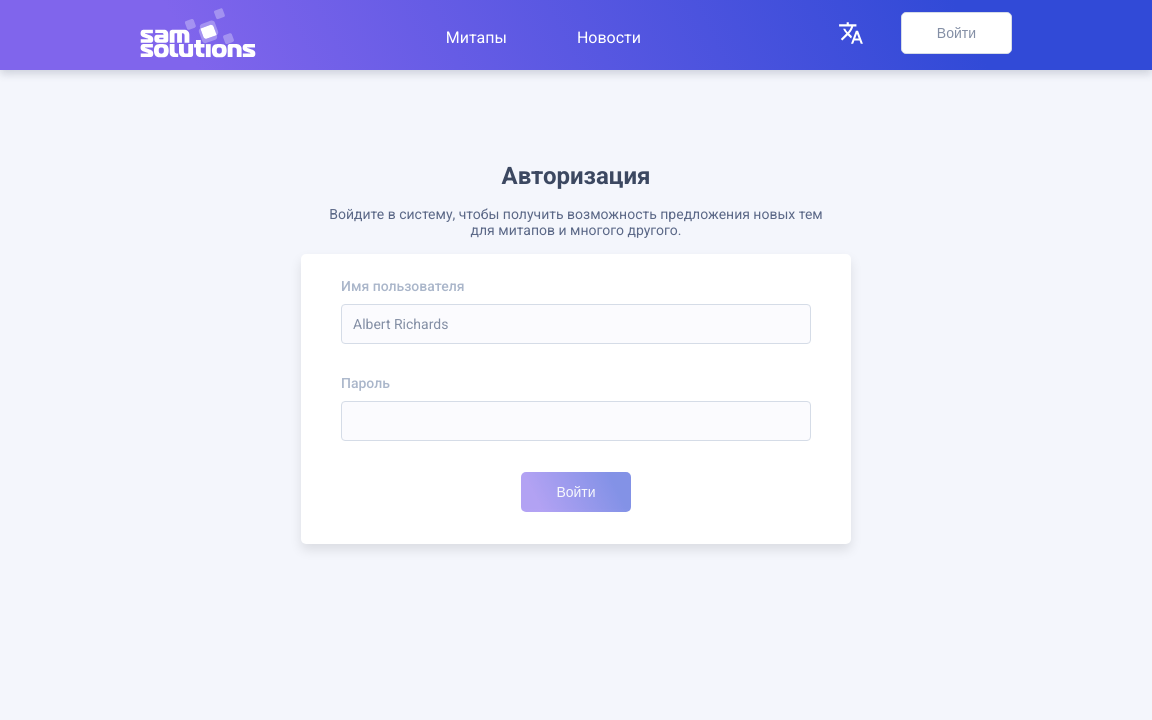
Test: authorization page › should show error notification if the data entered is uncorrect
Type "invalid user" into the field with placeholder "Albert Richards".
click(576, 324); type("invalid user")  # box [341, 304, 811, 344]
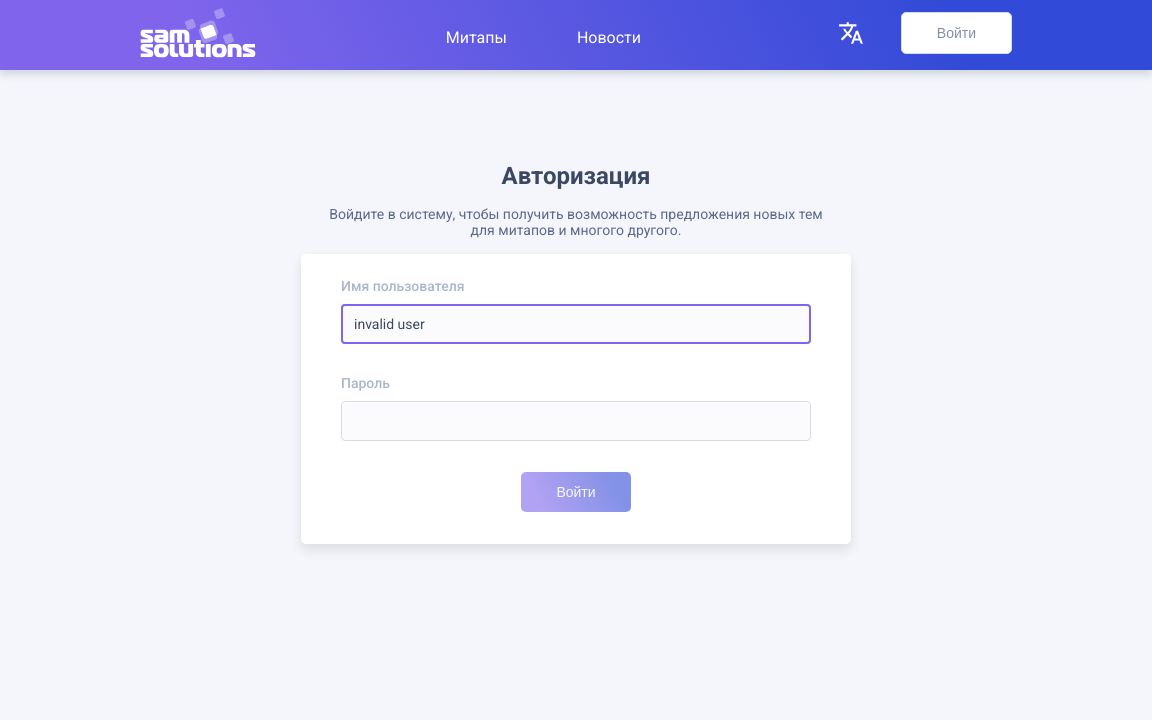
Type "invalid password" into the password field.
click(576, 421); type("invalid password")  # box [341, 401, 811, 441]
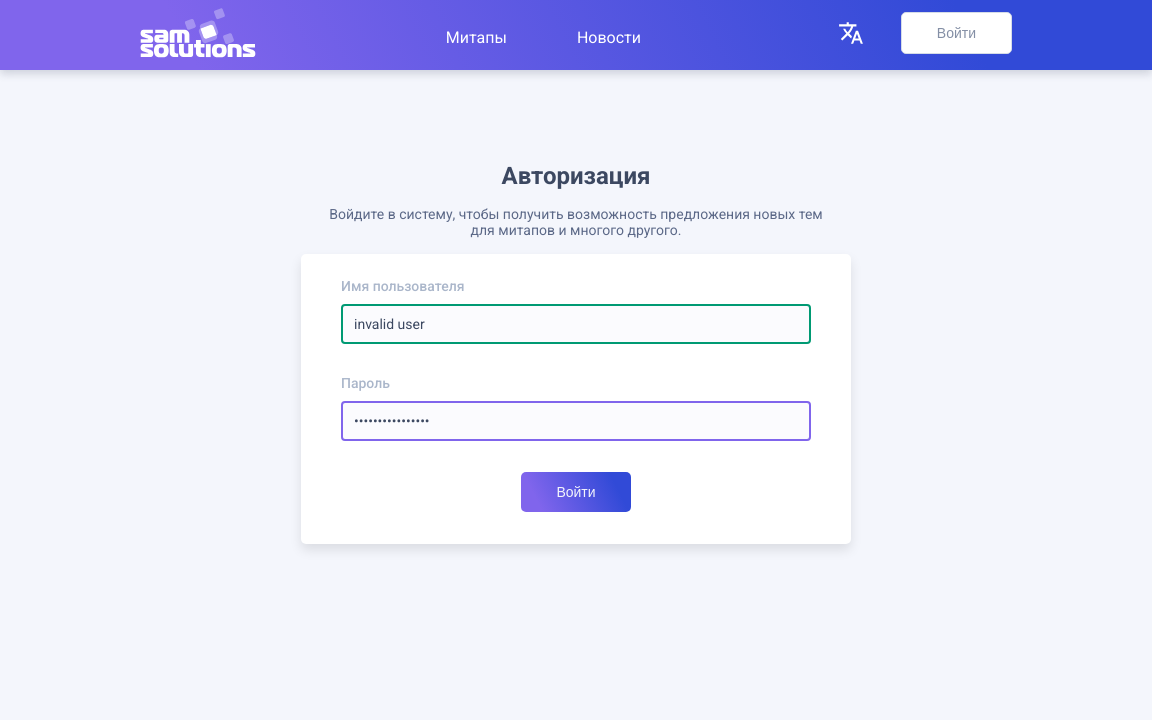
Click the button with id "singInBtn".
click(576, 492)  # box [521, 472, 630, 512]
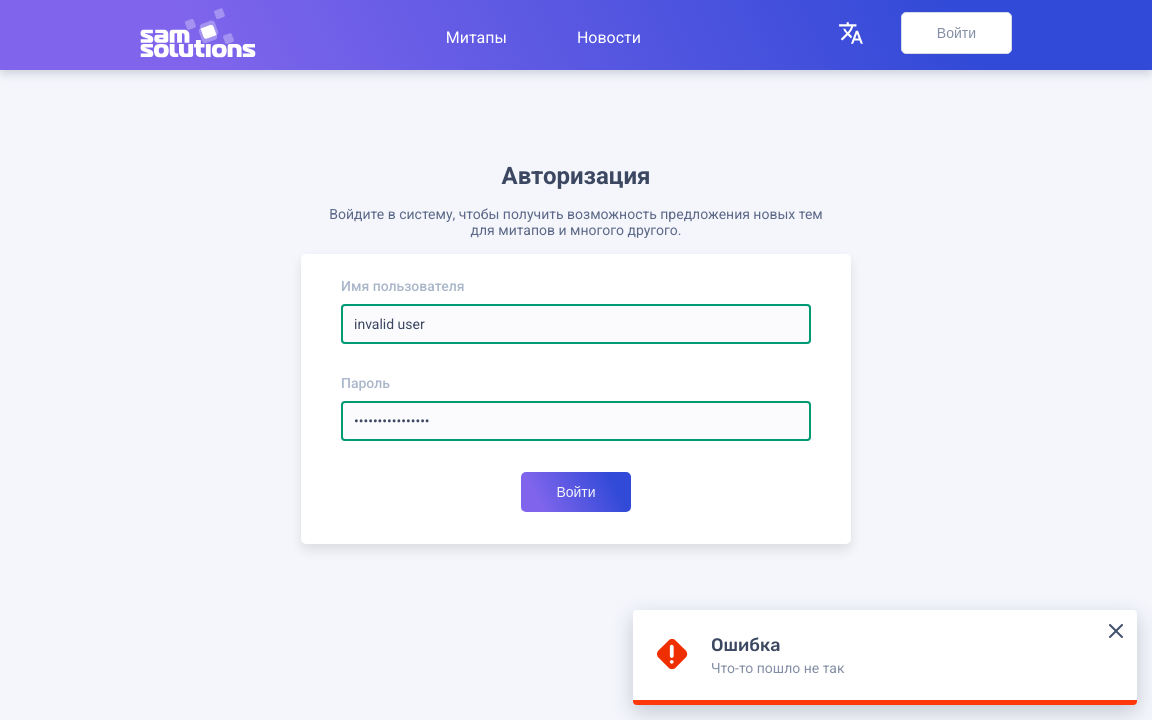
Check: the element with id "notification" is shown, box [633, 610, 1137, 705]
